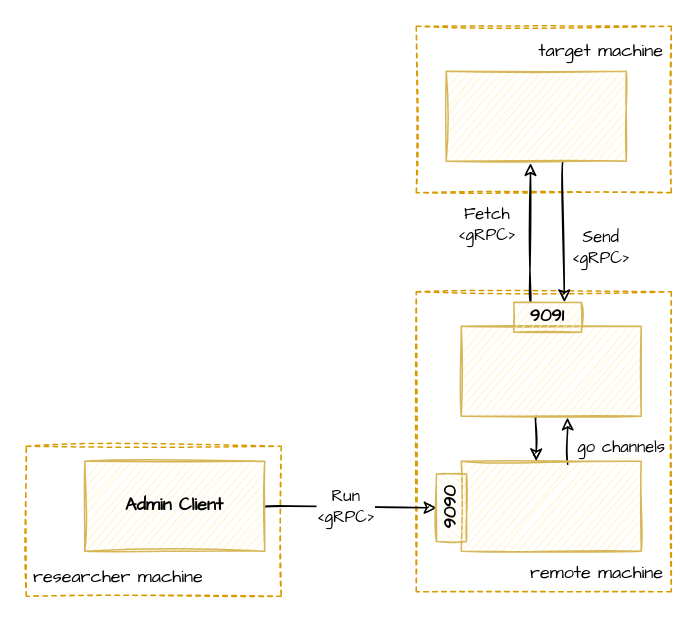
The diagram is 698 pixels wide and 623 high, and some of its shapes have lost their labels. Each missing label, with the centre of its shape:
"Admin Server" goes at point 550,505.
"Robot" goes at point 535,115.
"Robot Server" goes at point 550,370.
